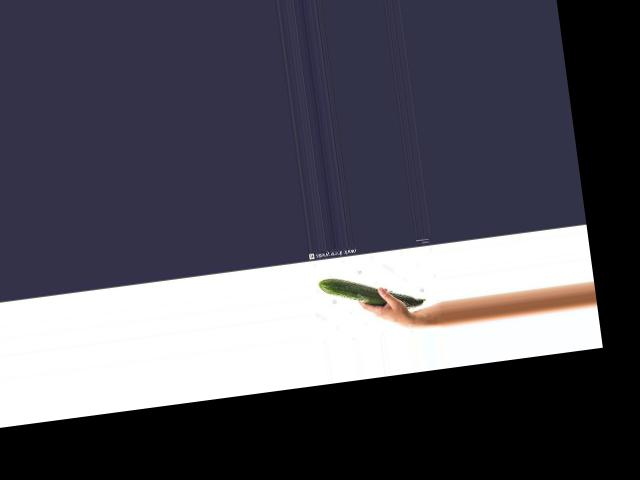cucumber: (318, 266, 427, 319)
